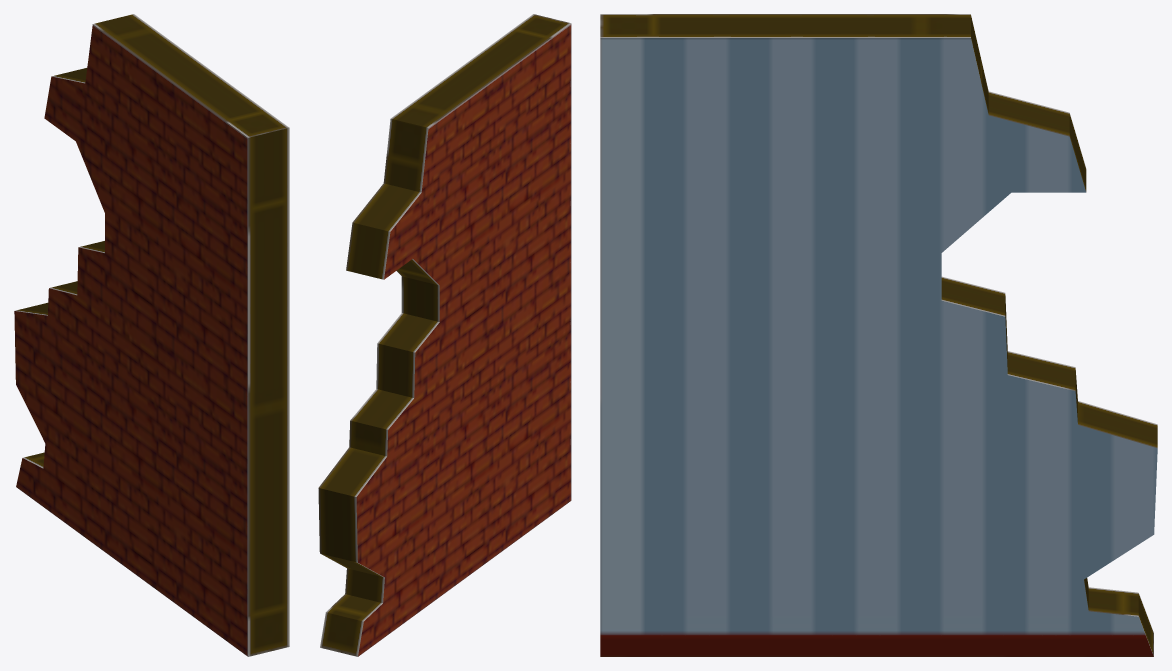
File: Wall_Broken_R_04.fbx
3 views of the same model, side by side, from view 1: azimuth 30°, elevation 25°; view 2: azimuth 150°, elevation 25°; view 3: azimuth 270°, elevation 25° (orthographic). The views are drawn at different scales.
Visible parts, largest first — view 1: Wall_Broken_R_04; view 2: Wall_Broken_R_04; view 3: Wall_Broken_R_04.
Boxes of the visible parts, x1,y1,x2,y2 form: Wall_Broken_R_04: (14, 14, 289, 656); Wall_Broken_R_04: (318, 14, 571, 656); Wall_Broken_R_04: (600, 14, 1157, 656).
Bounding box in the file's own units: 50 × 600 × 490.
